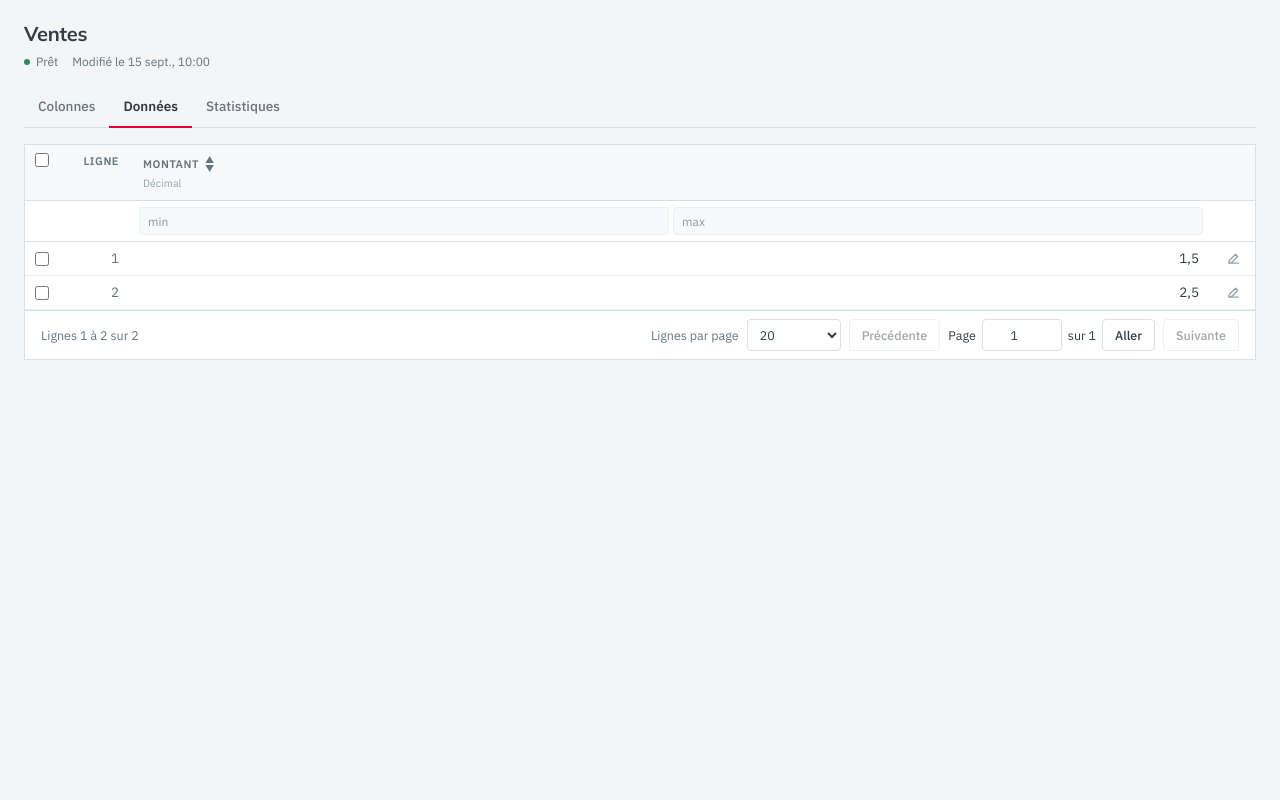
Test: une suppression par lot fait relire la fiche, qui porte le nombre de lignes
expect the text "Lignes 1 à 2 sur 2" is shown: met, box [41, 326, 139, 344]
Click the checkbox named "Sélectionner toutes les lignes filtrées" at (42, 160), box [35, 153, 49, 167]
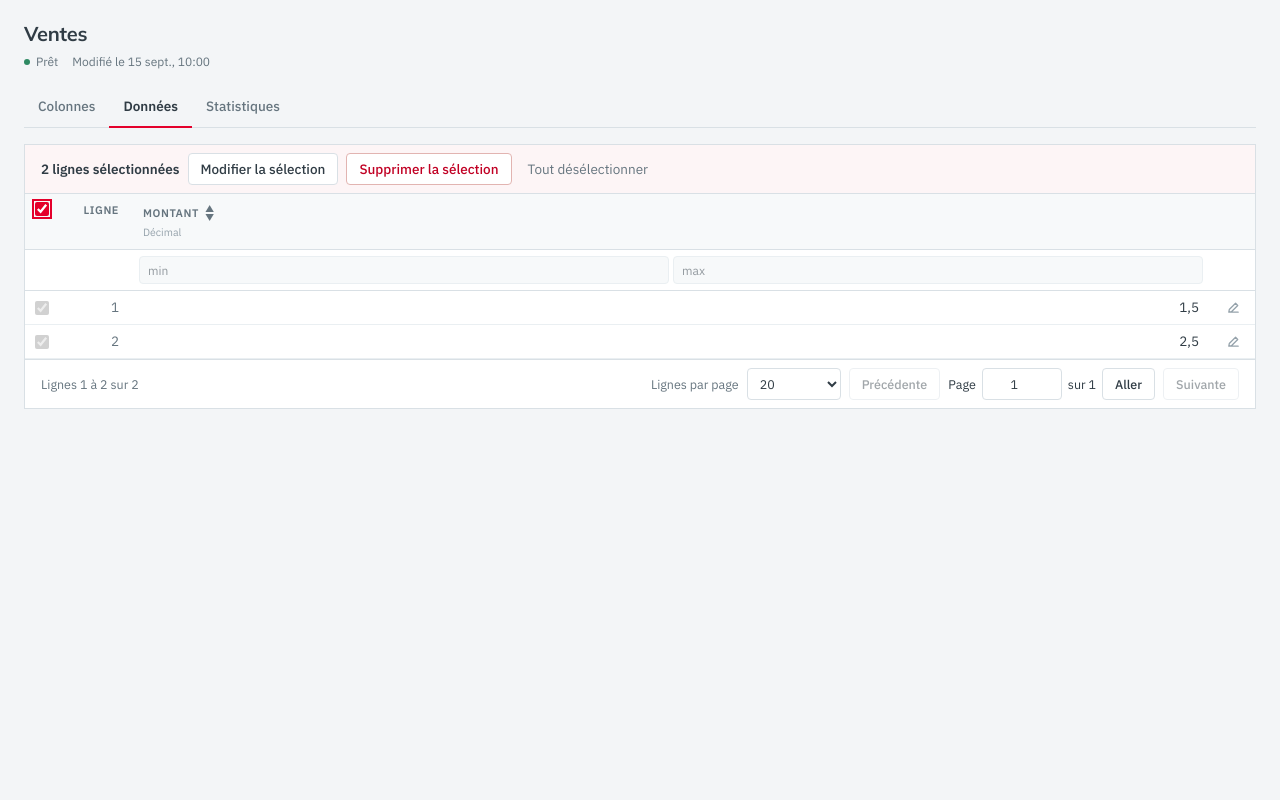
Click the button "Supprimer la sélection" at (429, 169), box [346, 153, 512, 185]
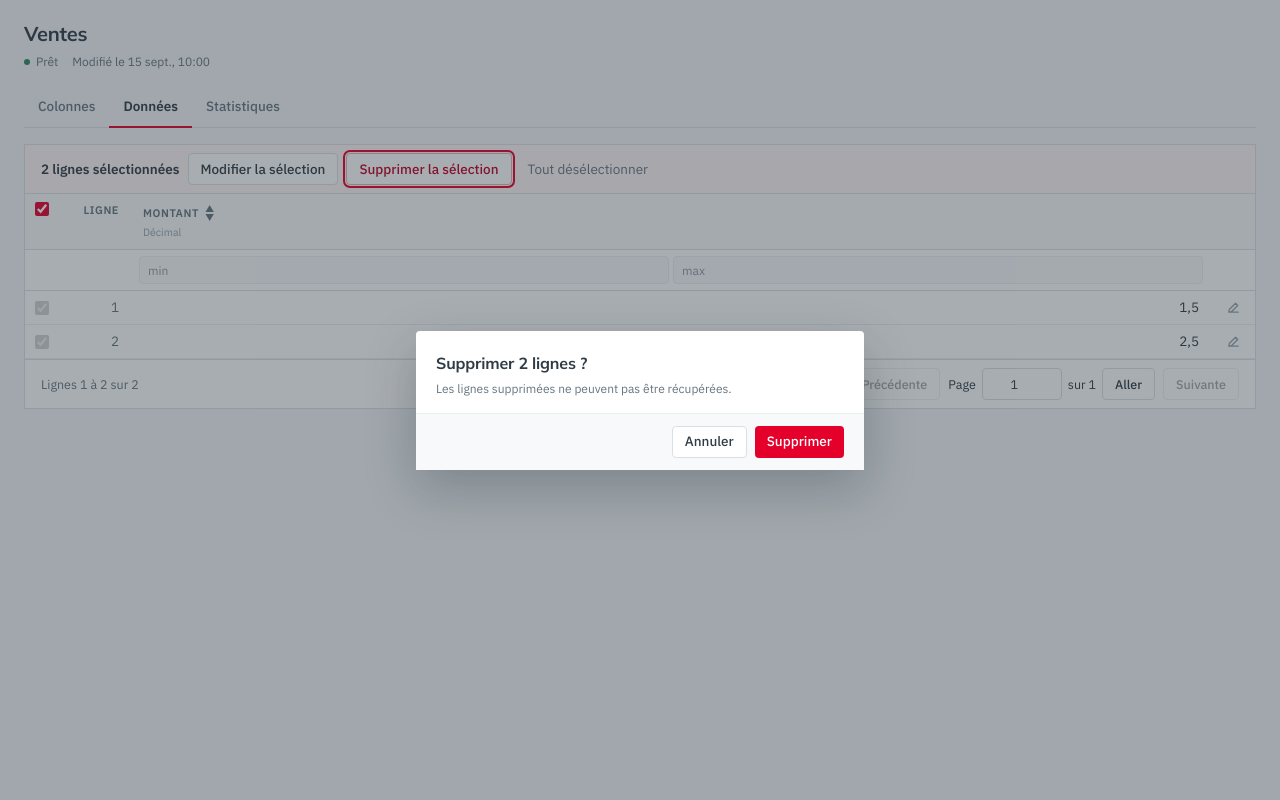
Click the button "Supprimer" at (799, 442), box [755, 426, 844, 458]
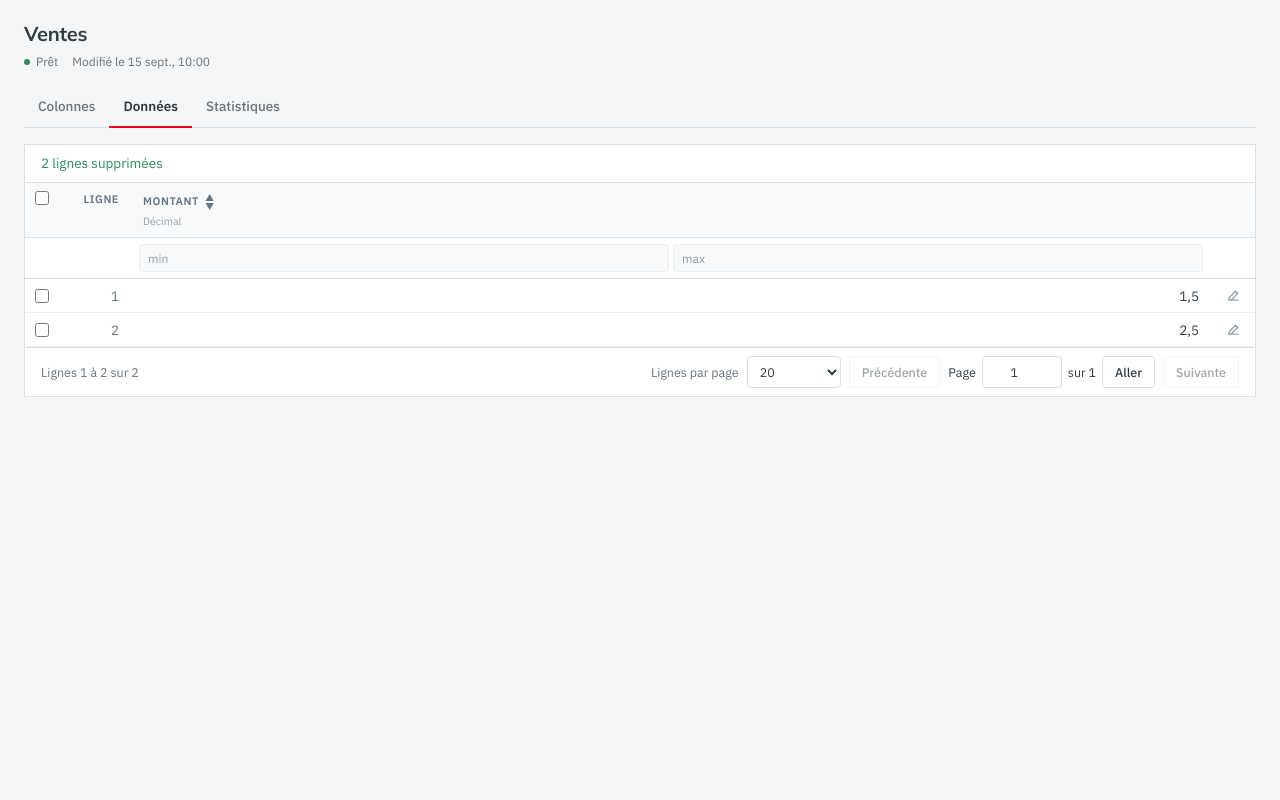
expect the text "2 lignes supprimées" is shown: met, box [25, 145, 1255, 183]
